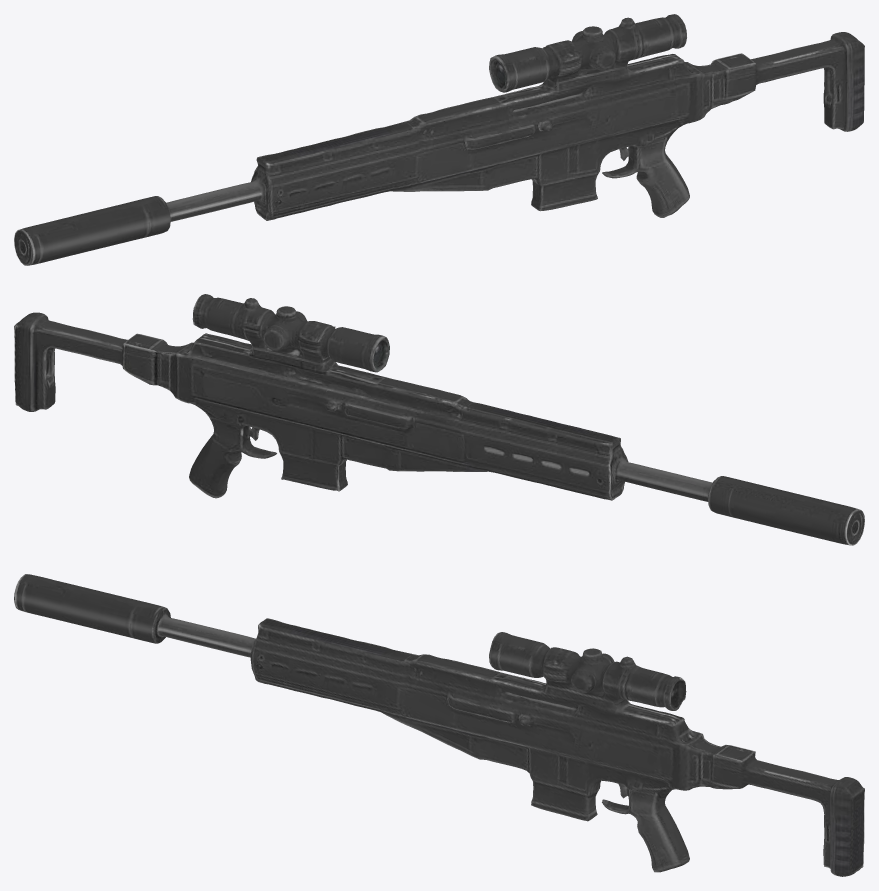
File: ghost_gun.glb
The picture shows the model from 3 angles, top to bottom: view 1: azimuth 30°, elevation 25°; view 2: azimuth 150°, elevation 25°; view 3: azimuth 330°, elevation 25°; orthographic projection.
Visible parts, largest first — view 1: Mesh_0; view 2: Mesh_0; view 3: Mesh_0.
Boxes of the visible parts, box(x1,y1,x2,y2) form: Mesh_0: box(14, 14, 864, 265); Mesh_0: box(14, 294, 864, 545); Mesh_0: box(14, 574, 864, 876).
Bounding box in the file's own units: 1.91 × 0.447 × 0.1113.
1 material, 1 textured.
